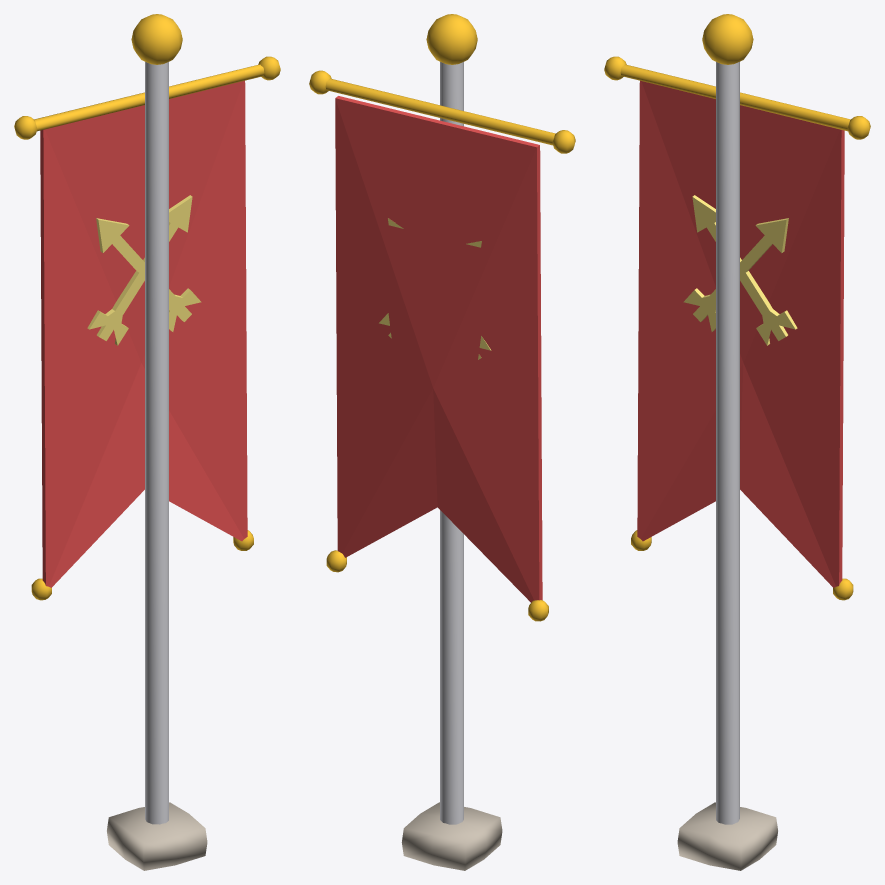
File: ArrowAmbushBanner.obj
3 views of the same model, side by side, from view 1: azimuth 30°, elevation 25°; view 2: azimuth 150°, elevation 25°; view 3: azimuth 330°, elevation 25° (orthographic).
Parts seen in each view (by area): view 1: Cloth, Pole, Gold, Foot, Emblem; view 2: Cloth, Pole, Gold, Foot; view 3: Cloth, Pole, Gold, Foot, Emblem.
Boxes of the visible parts, left/top/right/bottom form: Cloth: left=40, top=80, right=247, bottom=587; Pole: left=145, top=62, right=168, bottom=824; Gold: left=14, top=14, right=280, bottom=600; Foot: left=107, top=802, right=207, bottom=870; Emblem: left=87, top=195, right=201, bottom=345; Cloth: left=335, top=96, right=542, bottom=602; Pole: left=440, top=62, right=463, bottom=824; Gold: left=309, top=14, right=575, bottom=621; Foot: left=401, top=802, right=502, bottom=870; Cloth: left=637, top=80, right=844, bottom=587; Pole: left=716, top=62, right=739, bottom=824; Gold: left=604, top=14, right=870, bottom=600; Foot: left=677, top=802, right=777, bottom=870; Emblem: left=683, top=195, right=797, bottom=345.
Bounding box in the file's own units: 3.8 × 11.52 × 1.
